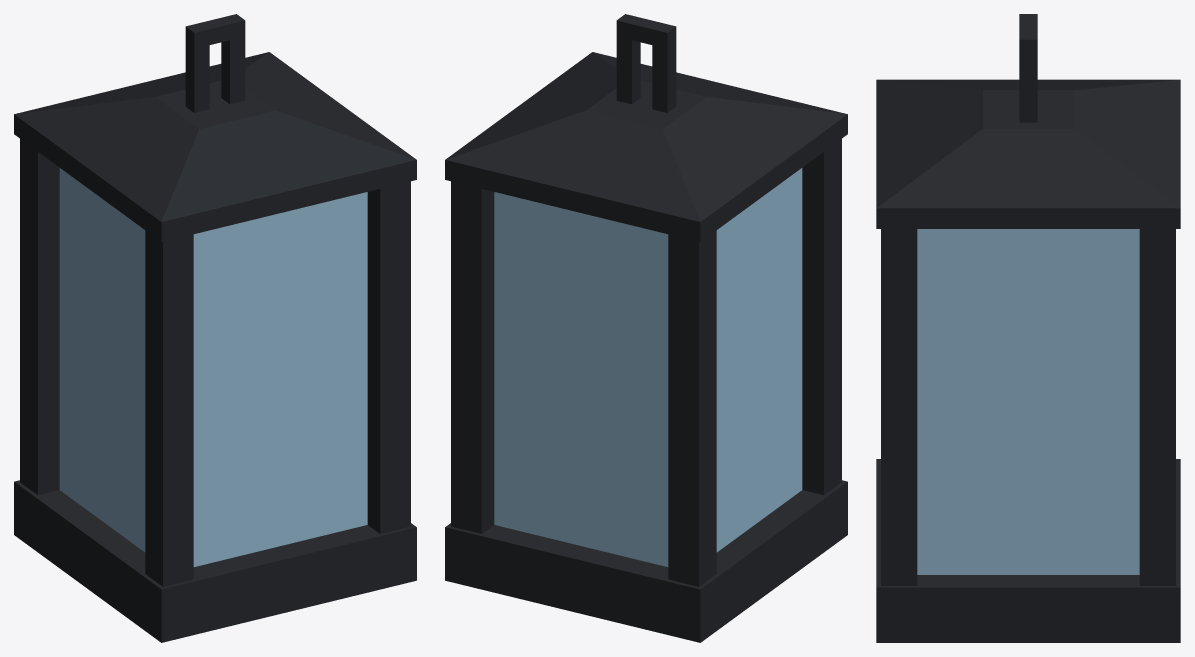
Rendered from lantern.glb.
3 views of the same model, side by side, from view 1: azimuth 30°, elevation 25°; view 2: azimuth 150°, elevation 25°; view 3: azimuth 270°, elevation 25° (orthographic). The views are drawn at different scales.
Visible parts, largest first — view 1: Lantern; view 2: Lantern; view 3: Lantern.
Part boxes in pixels (<box>): Lantern: <box>14,14,416,642</box>; Lantern: <box>445,14,847,642</box>; Lantern: <box>876,14,1180,642</box>.
Size of the model in its own units: 0.2 by 0.4 by 0.2.
